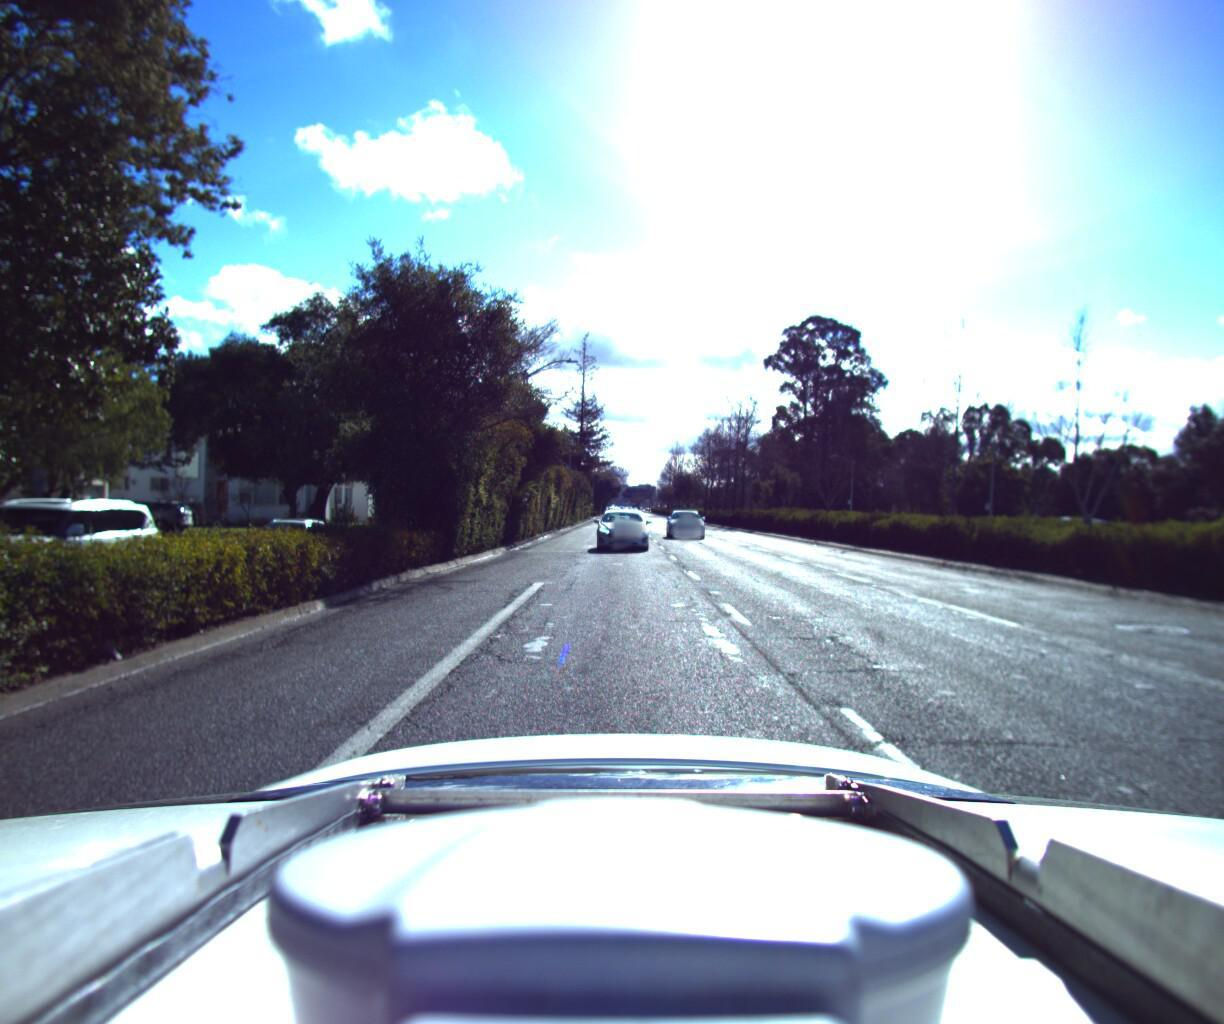car: (0, 494, 175, 622), (230, 510, 343, 578), (82, 494, 196, 534), (591, 502, 649, 548), (664, 504, 708, 540)
